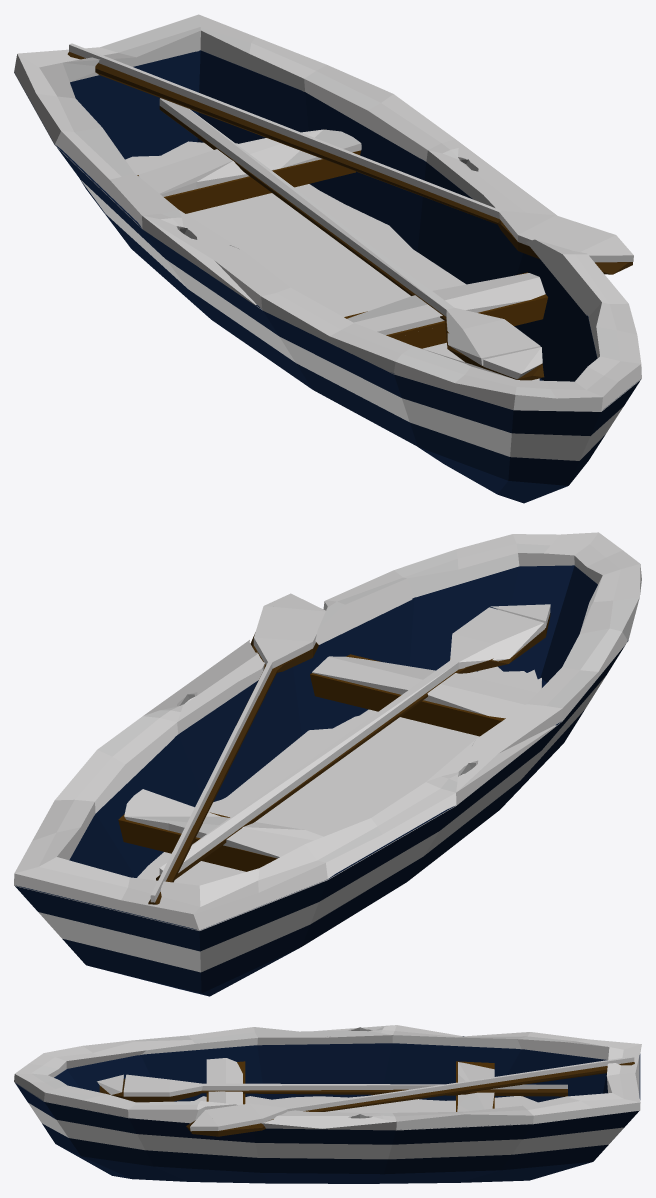
Rendered from Boat.fbx.
3 views of the same model, one above another, from view 1: azimuth 30°, elevation 25°; view 2: azimuth 150°, elevation 25°; view 3: azimuth 270°, elevation 25° (orthographic). The views are drawn at different scales.
Parts seen in each view (by area): view 1: Boat_Merged; view 2: Boat_Merged; view 3: Boat_Merged.
Part boxes in pixels (bbox=[...]): Boat_Merged: bbox=[14, 14, 641, 503]; Boat_Merged: bbox=[14, 532, 641, 996]; Boat_Merged: bbox=[14, 1025, 641, 1183].
Bounding box in the file's own units: 211 × 104 × 544.
